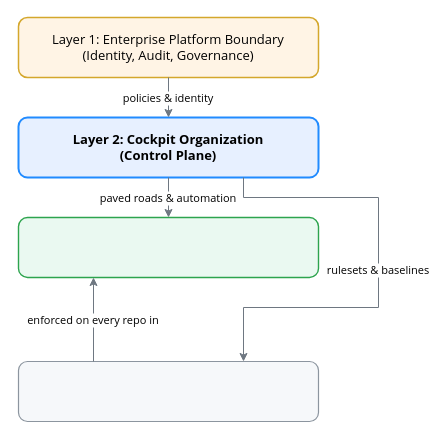
This 447x440 diagram has some shape labels left out. Here are the shapes that lost their labels. From the top down, the box of each, then its label:
(17, 216, 319, 278): Layer 3: Product Organizations (Team Repositories)
(17, 360, 319, 422): Layer 4: Repository Guardrails (Rulesets, Workflows, Defaults)
